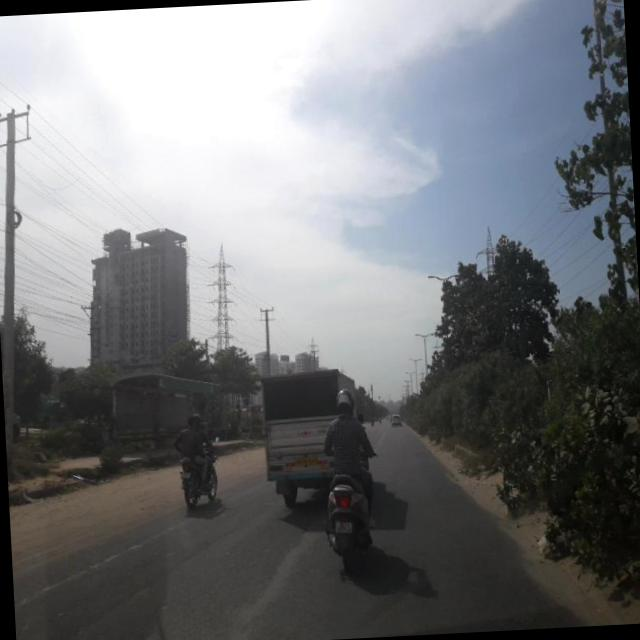crack: (89, 524, 554, 633)
